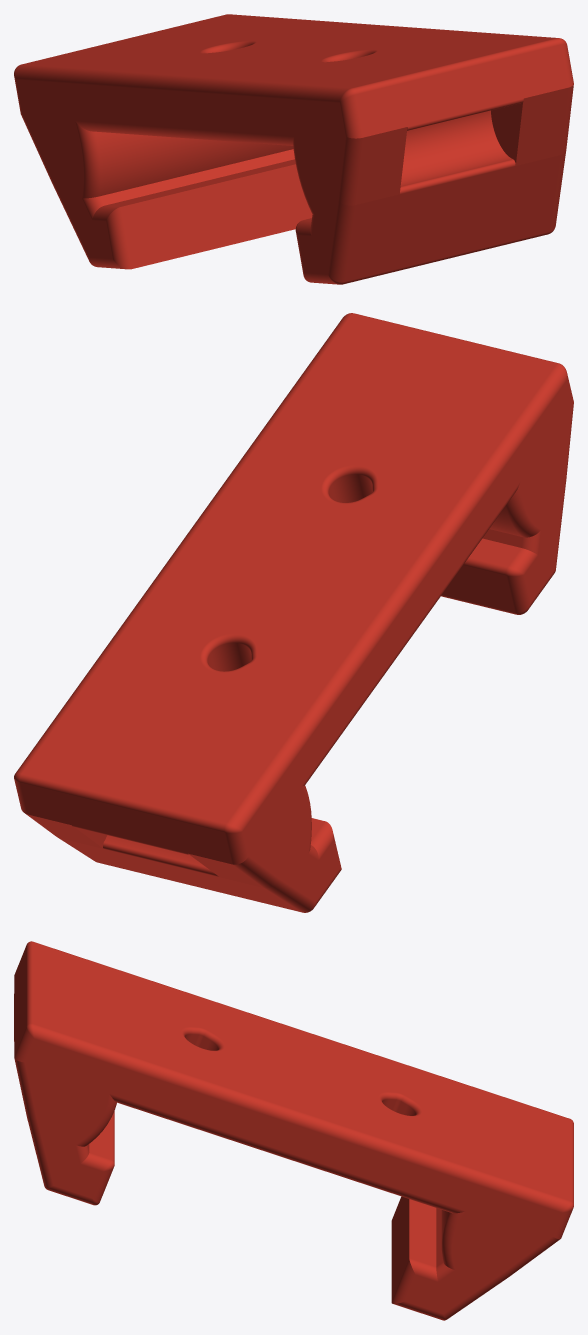
Rendered from EBoxNewAsm_stp_1_clip_recipient_4_stp_2_solid1.obj.
3 renders of one model, top to bottom at view 1: azimuth 30°, elevation 25°; view 2: azimuth 150°, elevation 25°; view 3: azimuth 270°, elevation 25°, orthographic. The views are drawn at different scales.
Visible parts, largest first — view 1: mesh5608, mesh5644, mesh5612, mesh5563, mesh5613, mesh5572, mesh5576, mesh5619, mesh5614, mesh5620, mesh5569, mesh5574 (+16 smaller); view 2: mesh5644, mesh5608, mesh5576, mesh5544, mesh5554, mesh5549, mesh5591, mesh5553, mesh5574, mesh5640, mesh5641, mesh5585 (+8 smaller); view 3: mesh5644, mesh5601, mesh5554, mesh5573, mesh5566, mesh5563, mesh5613, mesh5576, mesh5600, mesh5570, mesh5602, mesh5605 (+4 smaller).
Boxes of the visible parts, left/top/right/bottom form: mesh5608: left=16, top=79, right=345, bottom=274; mesh5644: left=23, top=14, right=555, bottom=88; mesh5612: left=345, top=155, right=559, bottom=281; mesh5563: left=121, top=164, right=312, bottom=268; mesh5613: left=356, top=45, right=567, bottom=137; mesh5572: left=95, top=131, right=293, bottom=196; mesh5576: left=15, top=64, right=350, bottom=102; mesh5619: left=400, top=110, right=512, bottom=186; mesh5614: left=355, top=127, right=407, bottom=204; mesh5620: left=515, top=88, right=567, bottom=165; mesh5569: left=100, top=149, right=294, bottom=205; mesh5574: left=75, top=121, right=293, bottom=145; mesh5644: left=22, top=315, right=555, bottom=823; mesh5608: left=242, top=381, right=571, bottom=901; mesh5576: left=226, top=365, right=566, bottom=831; mesh5544: left=20, top=782, right=231, bottom=864; mesh5554: left=16, top=314, right=351, bottom=773; mesh5549: left=60, top=838, right=301, bottom=912; mesh5591: left=442, top=565, right=514, bottom=612; mesh5553: left=20, top=774, right=225, bottom=831; mesh5574: left=301, top=482, right=520, bottom=786; mesh5640: left=328, top=474, right=372, bottom=502; mesh5641: left=207, top=643, right=251, bottom=671; mesh5585: left=469, top=538, right=521, bottom=566; mesh5644: left=33, top=942, right=570, bottom=1200; mesh5601: left=25, top=1039, right=561, bottom=1313; mesh5554: left=33, top=1024, right=570, bottom=1212; mesh5573: left=109, top=1093, right=465, bottom=1213; mesh5566: left=409, top=1199, right=436, bottom=1266; mesh5563: left=391, top=1196, right=409, bottom=1301; mesh5613: left=14, top=946, right=26, bottom=1056; mesh5576: left=33, top=942, right=570, bottom=1119; mesh5600: left=27, top=1118, right=53, bottom=1187; mesh5570: left=441, top=1211, right=465, bottom=1269; mesh5602: left=14, top=1058, right=36, bottom=1119; mesh5605: left=26, top=942, right=32, bottom=1026.
Size of the model in its own units: 0.0205 by 0.0314 by 0.0539.
